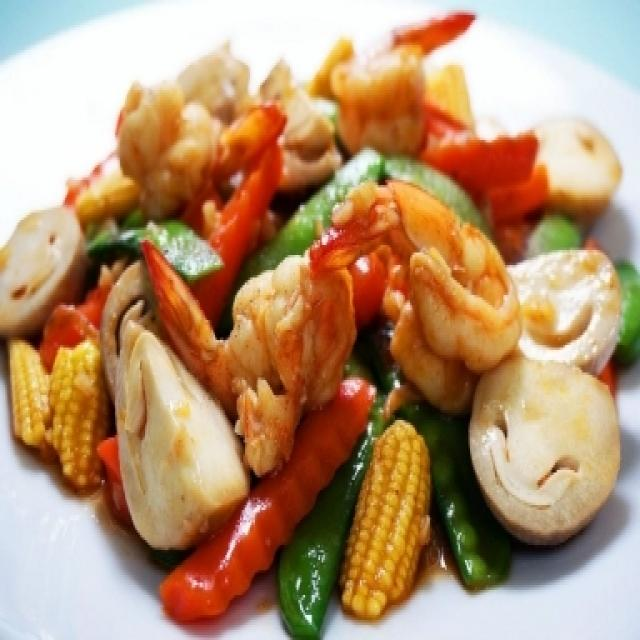蔬菜料理: (21, 27, 616, 615)
